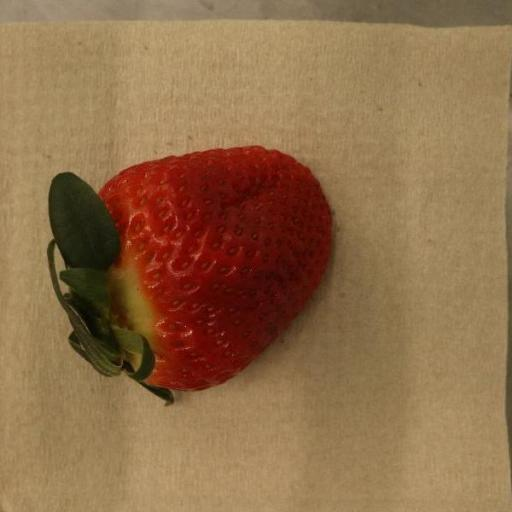Strawberry: (45, 146, 334, 406)
